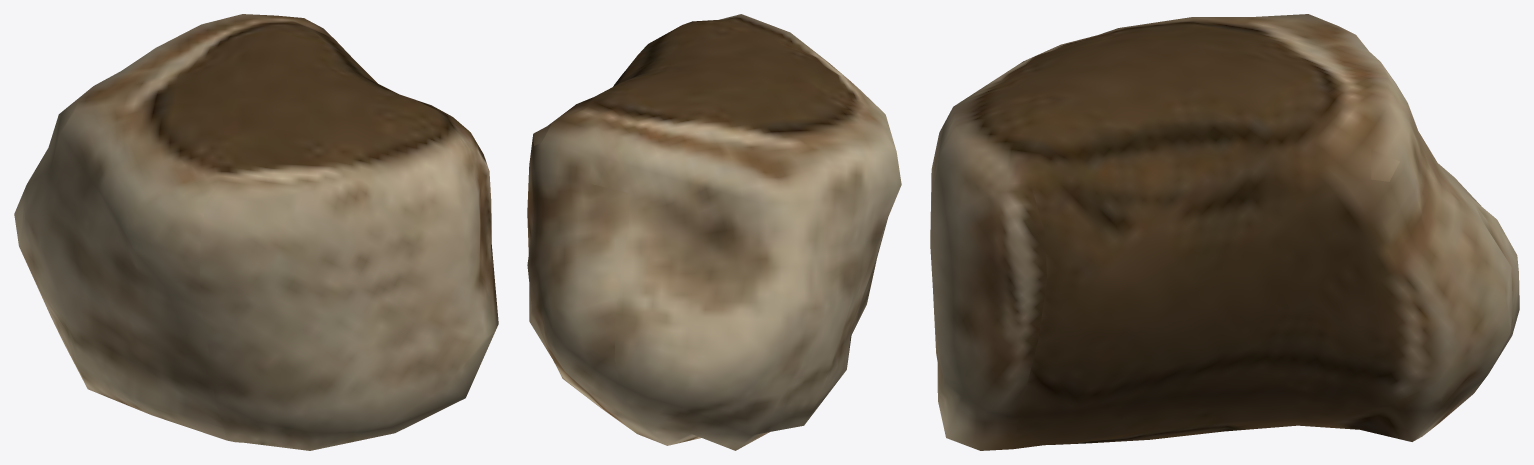
File: Radial_Carpal.glb
3 views of the same model, side by side, from view 1: azimuth 30°, elevation 25°; view 2: azimuth 150°, elevation 25°; view 3: azimuth 270°, elevation 25° (orthographic). The views are drawn at different scales.
Parts seen in each view (by area): view 1: L_Frt_Radial_Carpal; view 2: L_Frt_Radial_Carpal; view 3: L_Frt_Radial_Carpal.
Boxes of the visible parts, <box> form: L_Frt_Radial_Carpal: <box>14,14,498,450</box>; L_Frt_Radial_Carpal: <box>527,14,901,450</box>; L_Frt_Radial_Carpal: <box>930,14,1519,450</box>.
Size of the model in its own units: 0.0336 by 0.0314 by 0.0426.
1 material, 1 textured.
